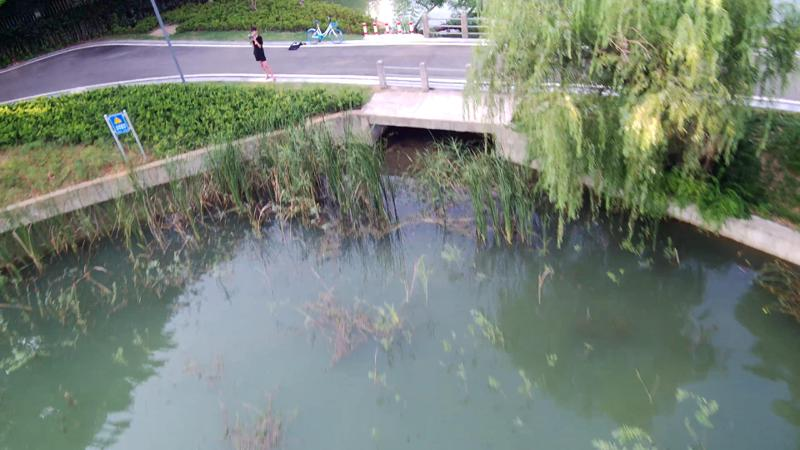passerby: (247, 26, 277, 81)
